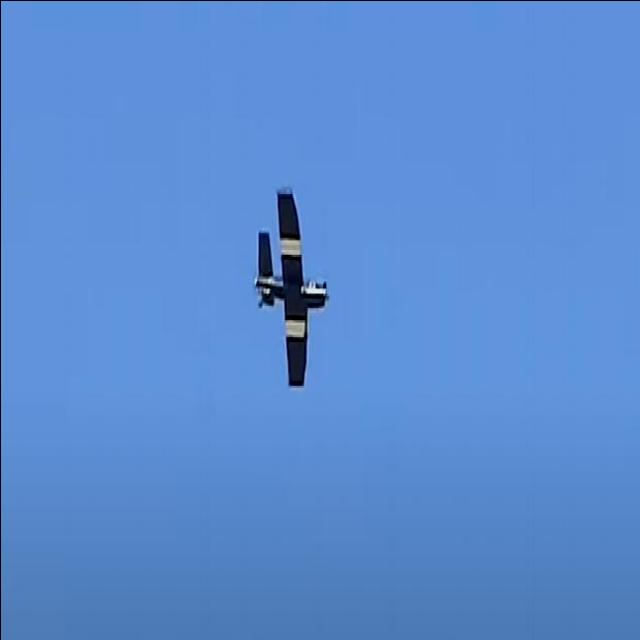plane: (253, 184, 330, 386)
